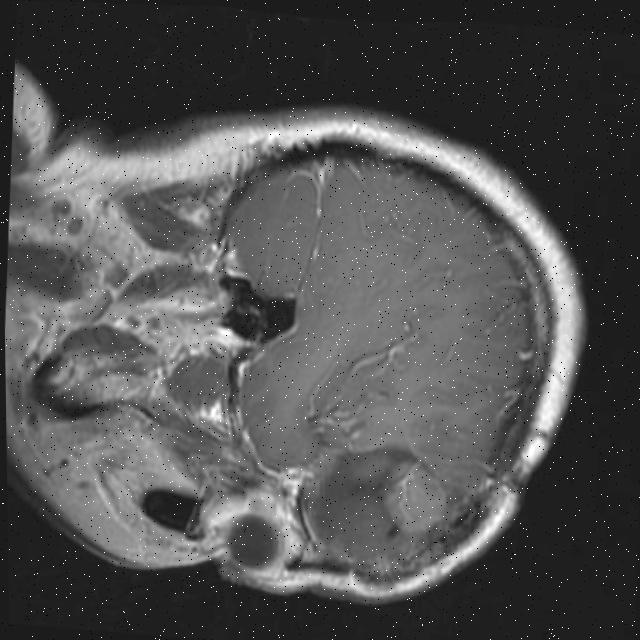Glioma: (309, 442, 453, 574)
